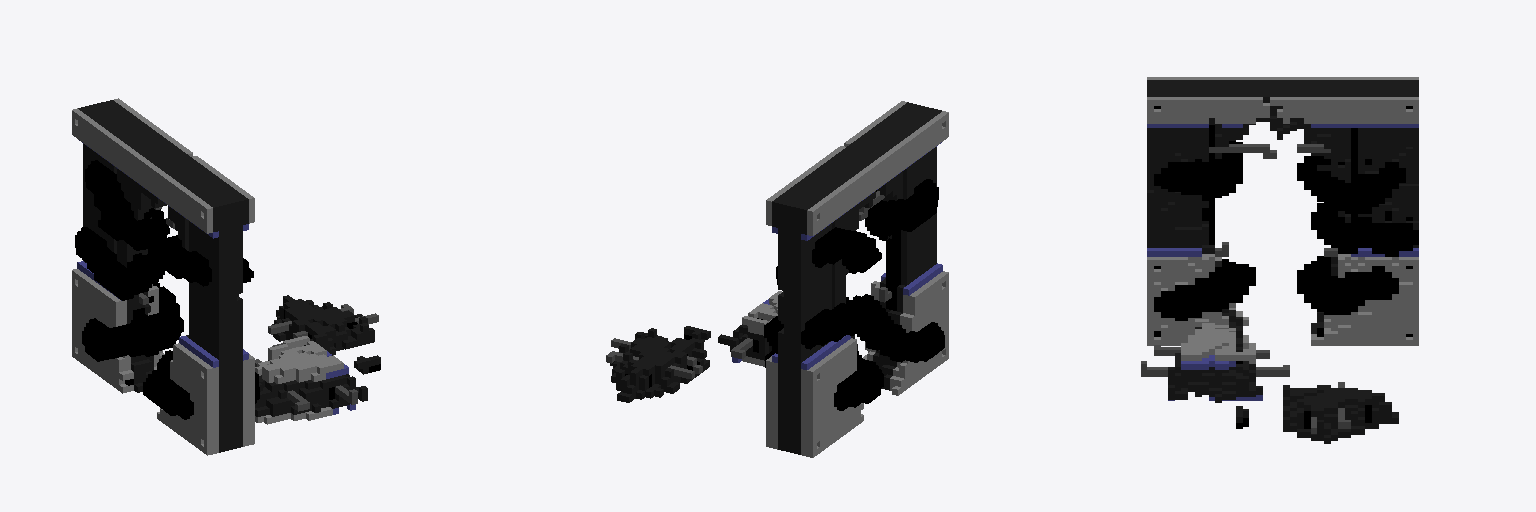
The picture shows the model from 3 angles: view 1: azimuth 30°, elevation 25°; view 2: azimuth 150°, elevation 25°; view 3: azimuth 270°, elevation 25°; orthographic projection.
Visible parts, largest first — view 1: wallbroken; view 2: wallbroken; view 3: wallbroken.
Part boxes in pixels (x1,y1,x2,y2): wallbroken: (72,98,380,455); wallbroken: (606,101,948,457); wallbroken: (1141,77,1418,443).
Bounding box in the file's own units: 47 × 40 × 41.
Materials: 1 (1 with a texture image).